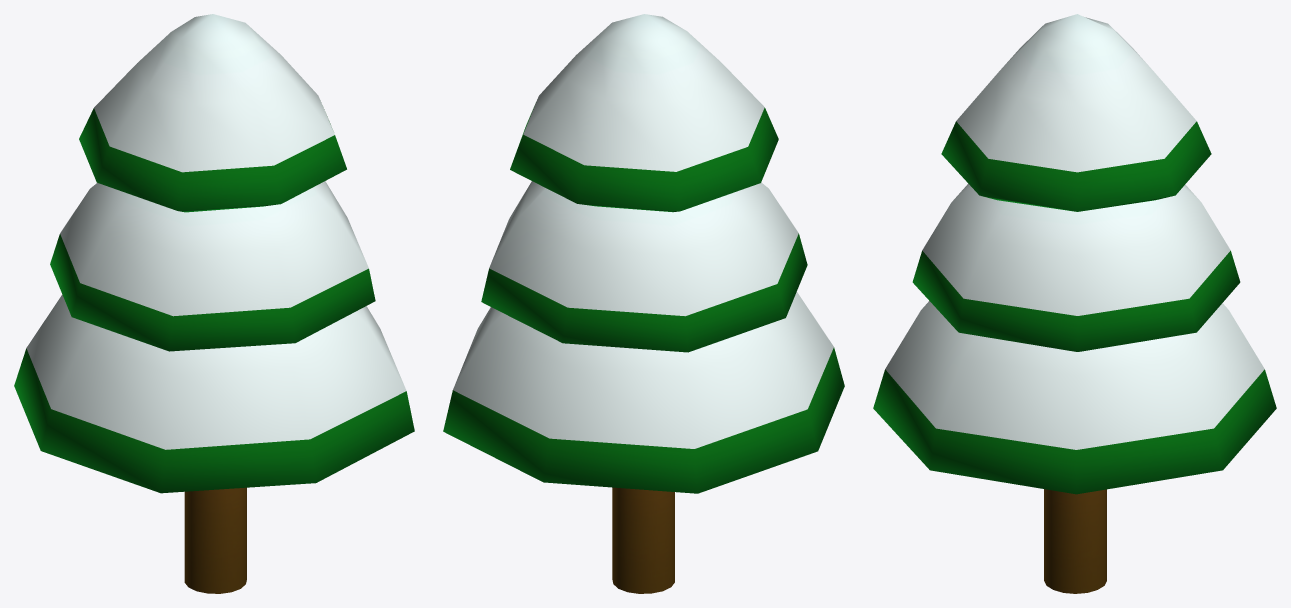
Rendered from Pine_2.fbx.
The picture shows the model from 3 angles, left to right: view 1: azimuth 30°, elevation 25°; view 2: azimuth 150°, elevation 25°; view 3: azimuth 270°, elevation 25°; orthographic projection.
Parts seen in each view (by area): view 1: Pine_2; view 2: Pine_2; view 3: Pine_2.
Part boxes in pixels (x1,y1,x2,y2): Pine_2: (14,14,414,593); Pine_2: (443,14,844,593); Pine_2: (873,14,1276,593).
Size of the model in its own units: 0.9941 by 1.54 by 0.9941.
